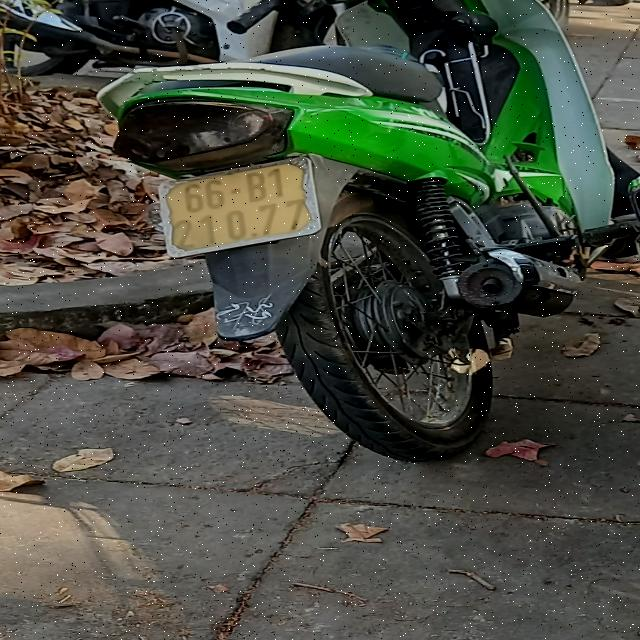0: (226, 209, 248, 242)
1: (266, 167, 290, 198), (200, 214, 218, 246)
2: (174, 218, 197, 252)
6: (204, 179, 228, 209), (184, 183, 204, 212)
7: (283, 198, 309, 233), (258, 203, 280, 235)
B: (244, 171, 268, 203)
